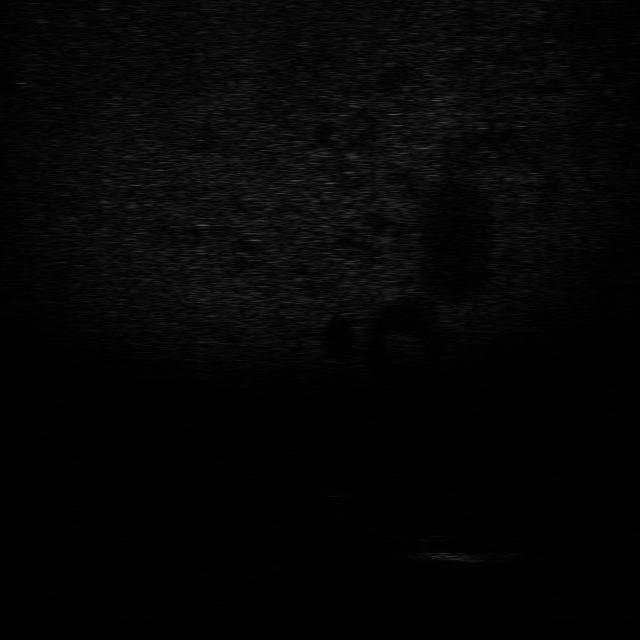ball: (318, 475, 360, 500)
cube: (368, 516, 448, 545)
tyre: (410, 544, 511, 569)
